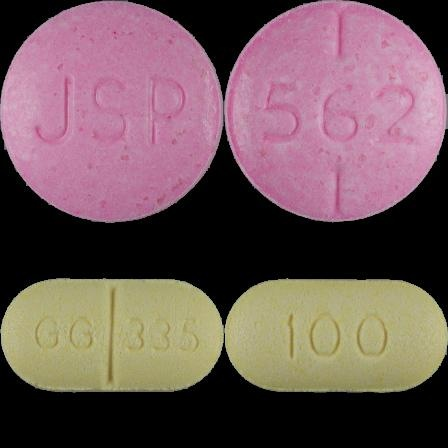51655-294: (0, 0, 224, 224)
